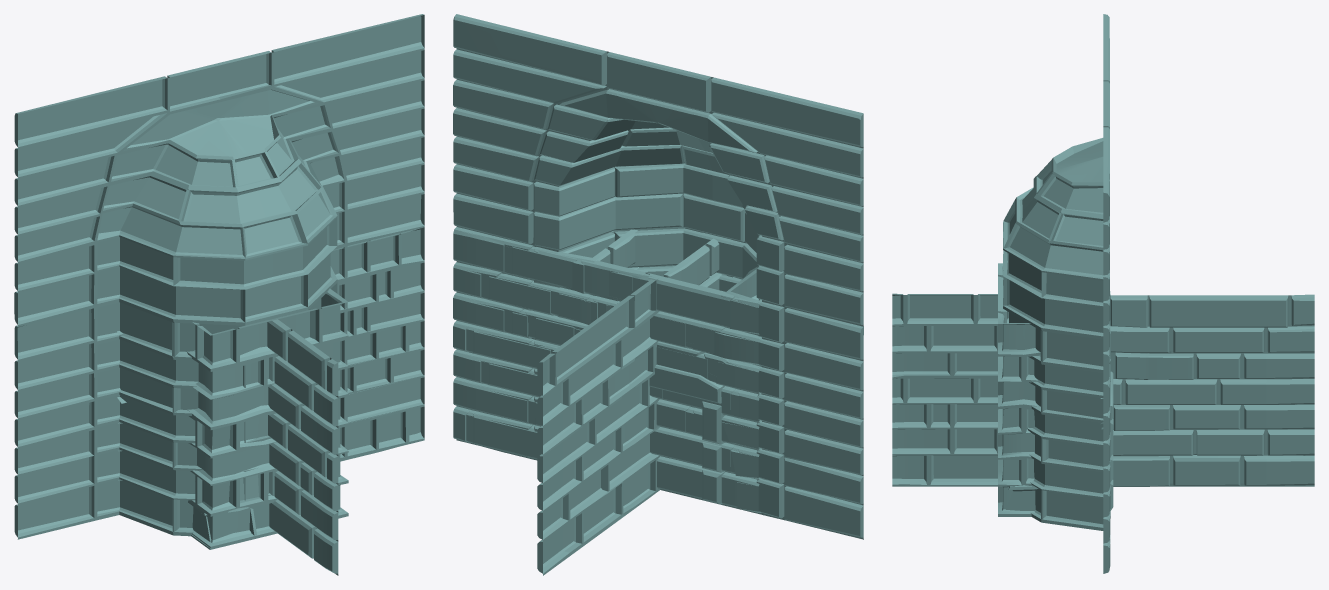
The model's file is wall tiles uvs.fbx.
3 renders of one model, left to right at view 1: azimuth 30°, elevation 25°; view 2: azimuth 150°, elevation 25°; view 3: azimuth 270°, elevation 25°, orthographic. The views are drawn at different scales.
Parts seen in each view (by area): view 1: Wall_Jut_back_large, Wall_Jut_back_high, OutsideCorner_Long_High, InsideCorner_Long_High1, Wall_Jut_Cap_high; view 2: Wall_Jut_back_large, InsideCorner_Long_High1, OutsideCorner_Long_High, Wall_Long_Alt, Wall_Turtle_Tunnel_High, Wall_Jut_Cap_high, Wall_Jut_back_high, Wall_Long_High; view 3: InsideCorner_Long_High1, Wall_Jut_back_large, OutsideCorner_Long_High, Wall_Jut_back_high, Wall_Jut_Cap_high, Wall_Turtle_Tunnel_High.
Boxes of the visible parts, x1,y1,x2,y2 form: Wall_Jut_back_large: (14,14,424,539); Wall_Jut_back_high: (117,288,348,548); OutsideCorner_Long_High: (267,227,423,575); InsideCorner_Long_High1: (333,228,423,461); Wall_Jut_Cap_high: (117,334,347,549); Wall_Jut_back_large: (453,14,863,539); InsideCorner_Long_High1: (455,246,660,575); OutsideCorner_Long_High: (453,229,721,459); Wall_Long_Alt: (555,260,761,514); Wall_Turtle_Tunnel_High: (558,252,760,512); Wall_Jut_Cap_high: (558,260,760,512); Wall_Jut_back_high: (557,229,761,512); Wall_Long_High: (578,329,761,512); InsideCorner_Long_High1: (1103,294,1314,486); Wall_Jut_back_large: (1003,14,1109,573); OutsideCorner_Long_High: (892,293,1110,569); Wall_Jut_back_high: (998,263,1040,516); Wall_Jut_Cap_high: (1006,291,1110,518); Wall_Turtle_Tunnel_High: (1110,371,1113,510).
Size of the model in its own units: 4.01 by 4.01 by 4.
